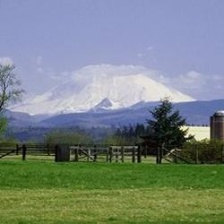neutral: (3, 10, 224, 222)
